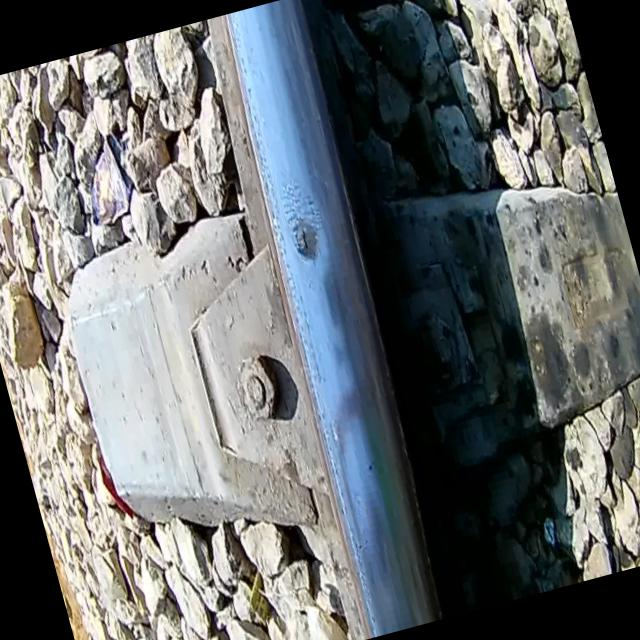Spallings: (296, 223, 314, 254)
Squats: (284, 211, 326, 266)
